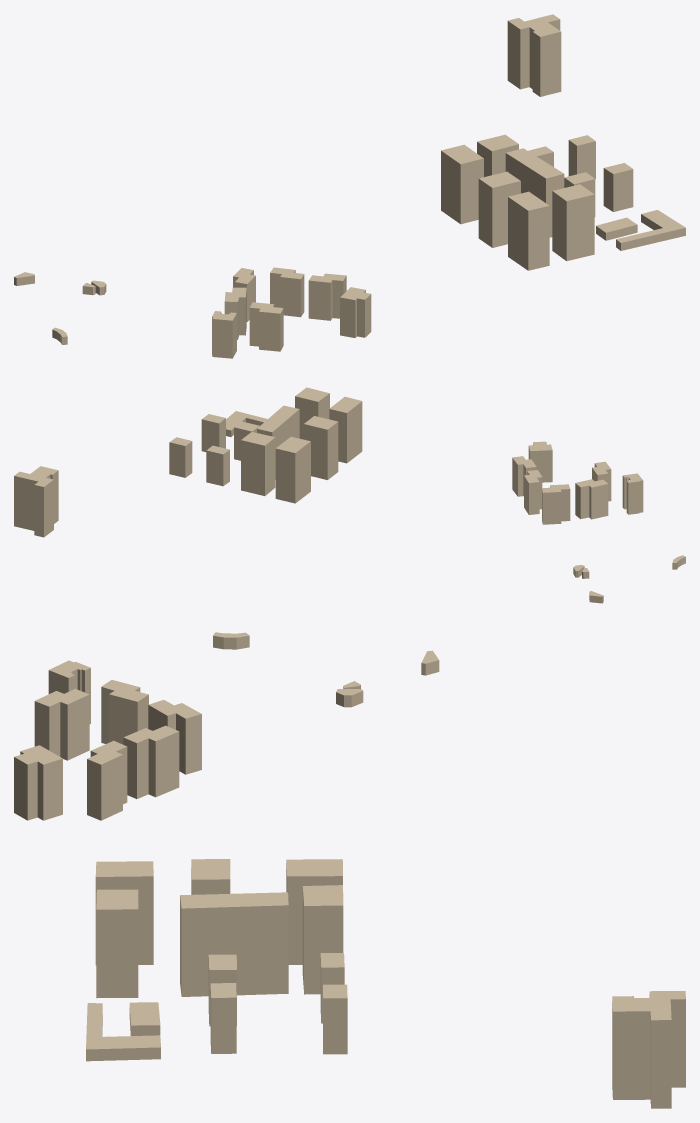
File: -10_4-estimated-coarse.glb
3 views of the same model, one above another, from view 1: azimuth 30°, elevation 25°; view 2: azimuth 150°, elevation 25°; view 3: azimuth 270°, elevation 25° (orthographic). The views are drawn at different scales.
Bounding box in the file's own units: 1013 × 90 × 619.
